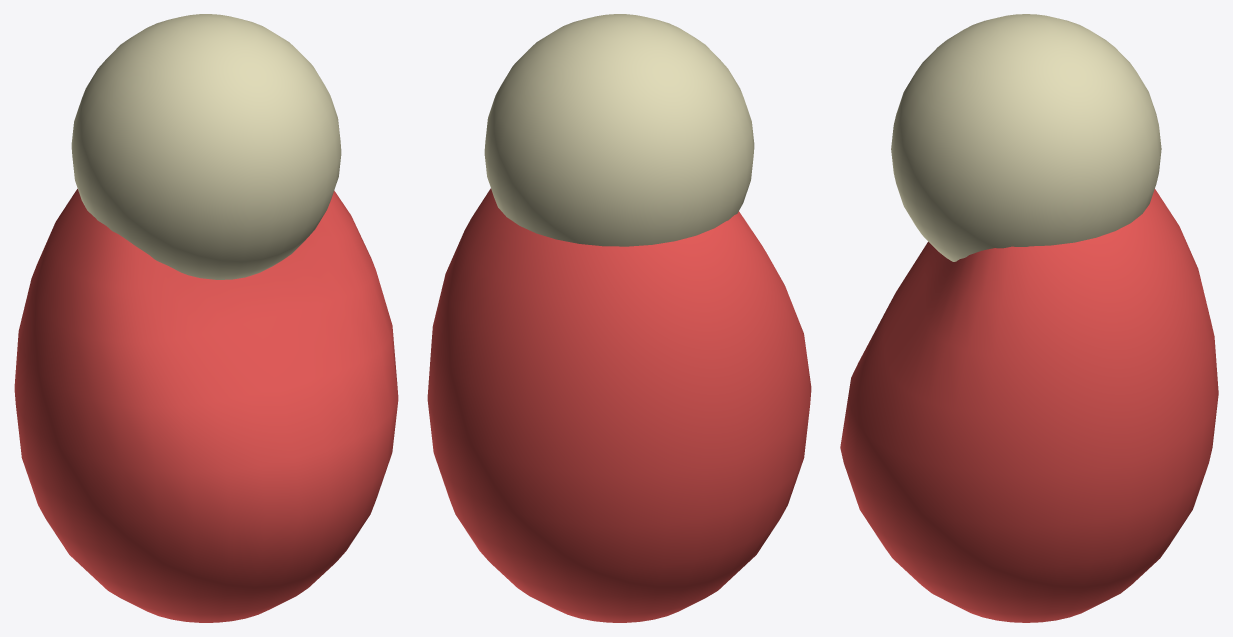
The model's file is Character.fbx.
The picture shows the model from 3 angles, left to right: view 1: azimuth 30°, elevation 25°; view 2: azimuth 150°, elevation 25°; view 3: azimuth 270°, elevation 25°; orthographic projection.
Visible parts, largest first — view 1: Sphere; view 2: Sphere; view 3: Sphere.
Part boxes in pixels (<box>): Sphere: <box>14,14,398,622</box>; Sphere: <box>427,14,811,622</box>; Sphere: <box>840,14,1218,622</box>.
Size of the model in its own units: 75.53 by 126 by 74.29.
